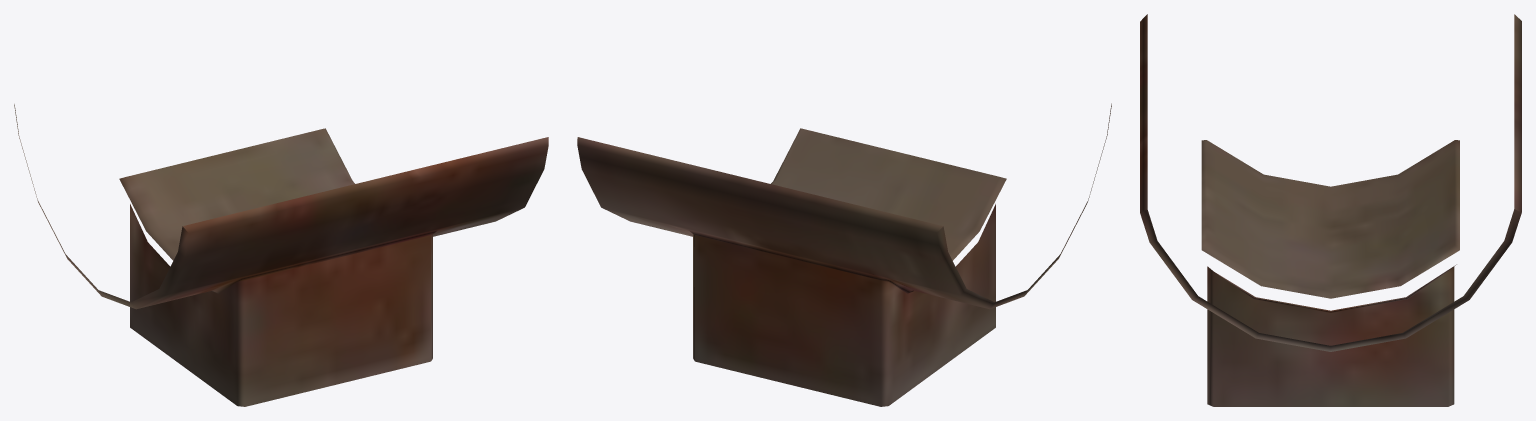
Rendered from gutter_cornice_connector.glb.
The picture shows the model from 3 angles, left to right: view 1: azimuth 30°, elevation 25°; view 2: azimuth 150°, elevation 25°; view 3: azimuth 270°, elevation 25°; orthographic projection. The views are drawn at different scales.
Visible parts, largest first — view 1: gutter_cornice_connector; view 2: gutter_cornice_connector; view 3: gutter_cornice_connector.
Boxes of the visible parts, x1,y1,x2,y2 form: gutter_cornice_connector: (14, 104, 548, 406); gutter_cornice_connector: (577, 103, 1111, 406); gutter_cornice_connector: (1140, 14, 1521, 406).
Size of the model in its own units: 0.187 by 0.1088 by 0.1547.
Materials: 1 (1 with a texture image).
